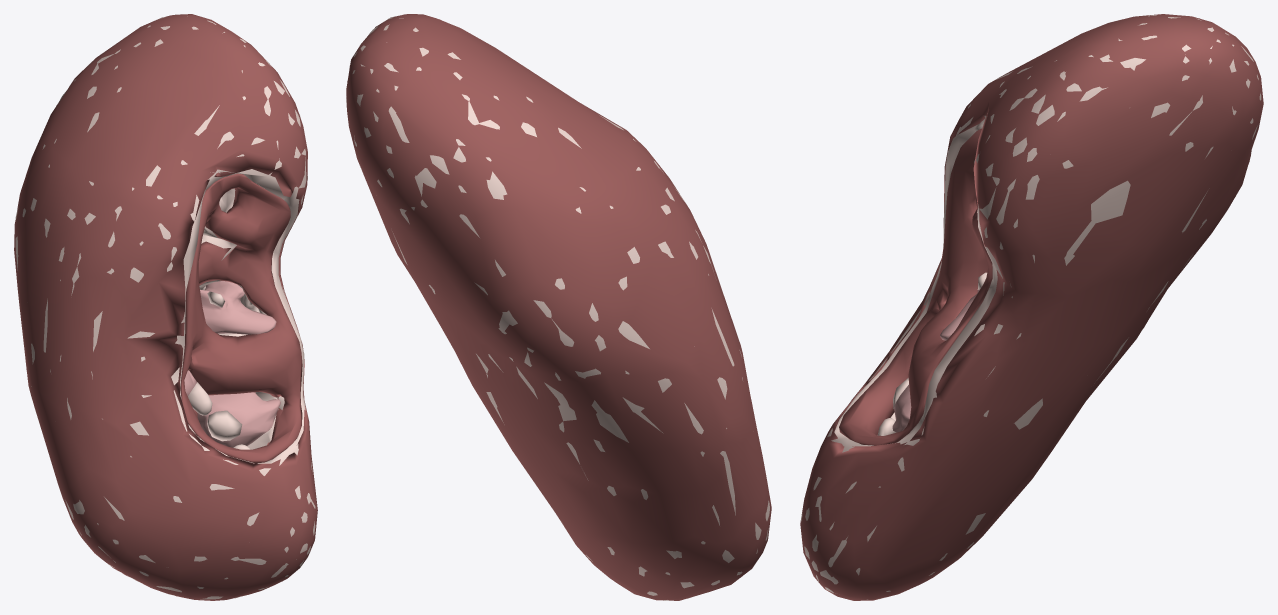
The model's file is vh_m_kidney_r-20.glb.
The picture shows the model from 3 angles, left to right: view 1: azimuth 30°, elevation 25°; view 2: azimuth 150°, elevation 25°; view 3: azimuth 270°, elevation 25°; orthographic projection. The views are drawn at different scales.
Parts seen in each view (by area): view 1: VH_M_kidney_capsule_R, VH_M_hilum_of_kidney_R, VH_M_outer_cortex_of_kidney_R, VH_M_renal_pyramid_f, VH_M_renal_pyramid_h, VH_M_renal_column_R, VH_M_renal_papilla_R_h, VH_M_renal_papilla_R_g; view 2: VH_M_kidney_capsule_R, VH_M_outer_cortex_of_kidney_R; view 3: VH_M_kidney_capsule_R, VH_M_hilum_of_kidney_R, VH_M_outer_cortex_of_kidney_R.
Part boxes in pixels (bbox=[...]): VH_M_kidney_capsule_R: bbox=[14, 14, 317, 600]; VH_M_hilum_of_kidney_R: bbox=[180, 173, 302, 463]; VH_M_outer_cortex_of_kidney_R: bbox=[15, 16, 317, 599]; VH_M_renal_pyramid_f: bbox=[200, 281, 276, 334]; VH_M_renal_pyramid_h: bbox=[197, 392, 280, 447]; VH_M_renal_column_R: bbox=[199, 188, 278, 449]; VH_M_renal_papilla_R_h: bbox=[207, 410, 242, 441]; VH_M_renal_papilla_R_g: bbox=[188, 382, 212, 415]; VH_M_kidney_capsule_R: bbox=[346, 14, 771, 600]; VH_M_outer_cortex_of_kidney_R: bbox=[346, 14, 769, 600]; VH_M_kidney_capsule_R: bbox=[800, 14, 1263, 600]; VH_M_hilum_of_kidney_R: bbox=[839, 128, 992, 445]; VH_M_outer_cortex_of_kidney_R: bbox=[801, 15, 1261, 599].
Size of the model in its own units: 0.0656 by 0.1125 by 0.0765.
